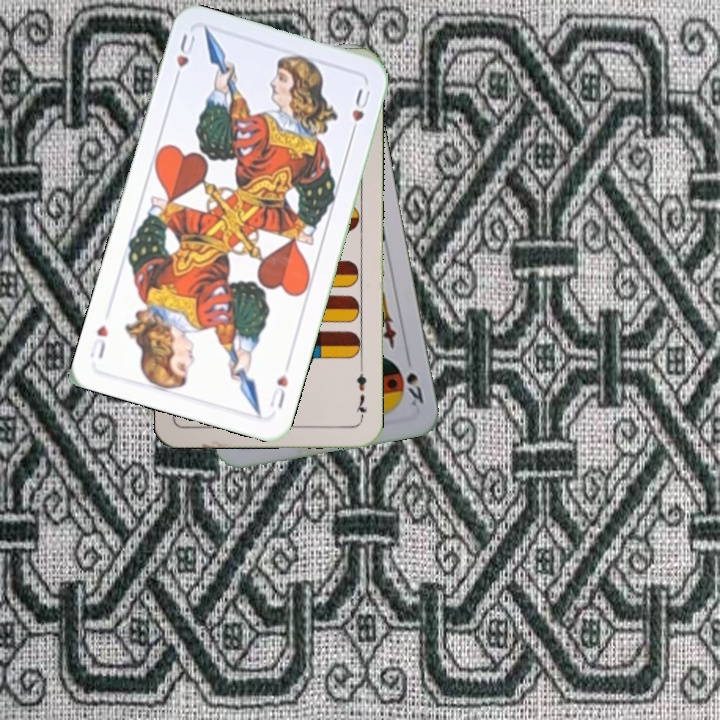E7: (351, 363, 370, 422)
HU: (170, 30, 198, 86), (265, 370, 291, 411)
SK: (402, 351, 426, 410)
